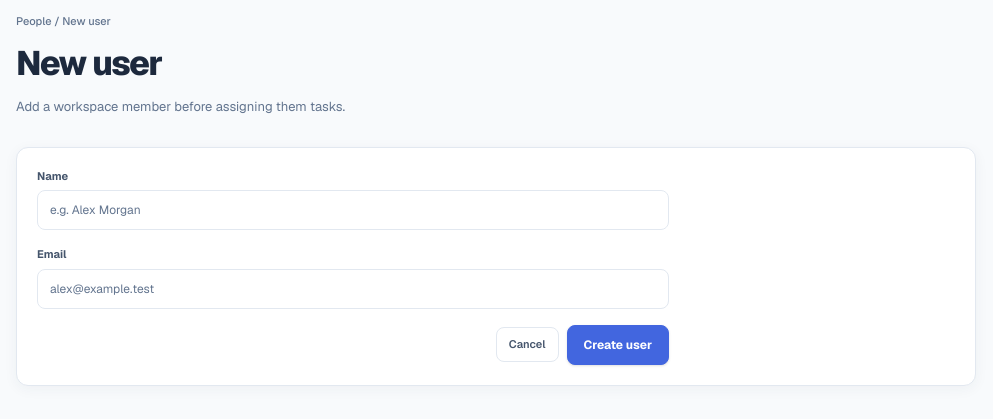
UserForm › server-side validation › marks the name invalid when the name failed validation
The image size is (993, 419).
Step 1. Type "Ada Lovelace" into the field labelled "Name" → (353, 210), box [37, 190, 669, 230]
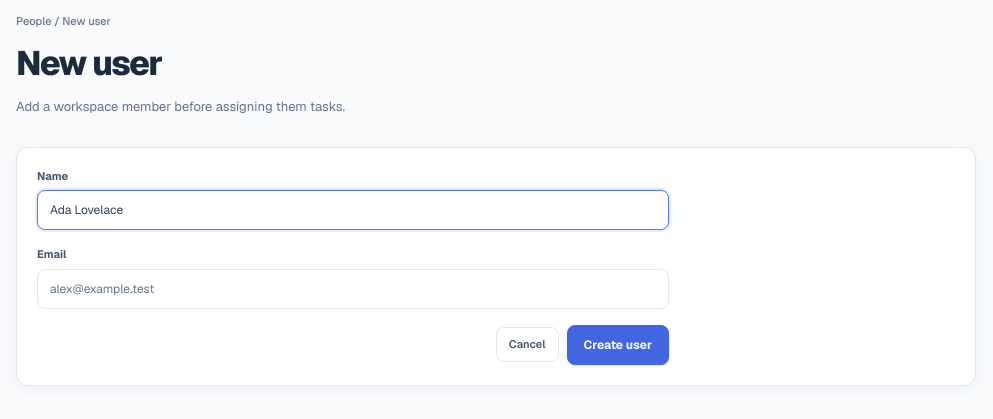
Step 2. Type "ada@example.test" into the field labelled "Email" → (353, 288), box [37, 268, 669, 308]
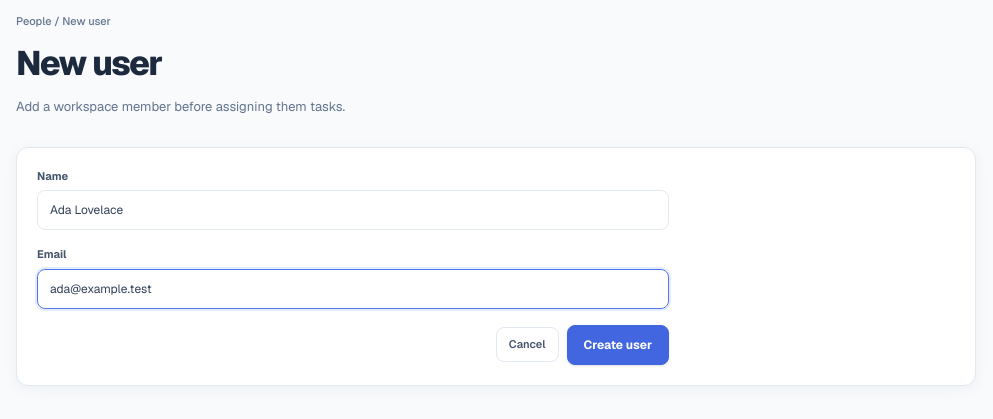
Step 3. Click the button "Create user" → (618, 344), box [567, 324, 669, 364]
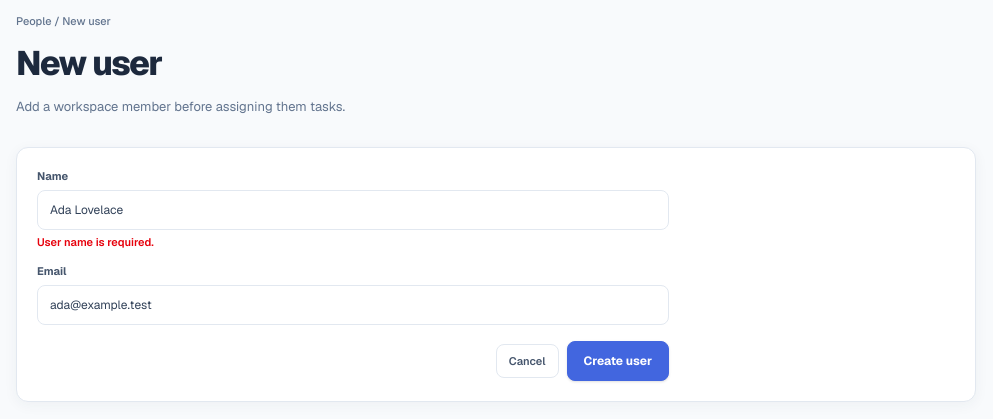
Check: the text "User name is required." is shown, box [37, 235, 154, 249]
